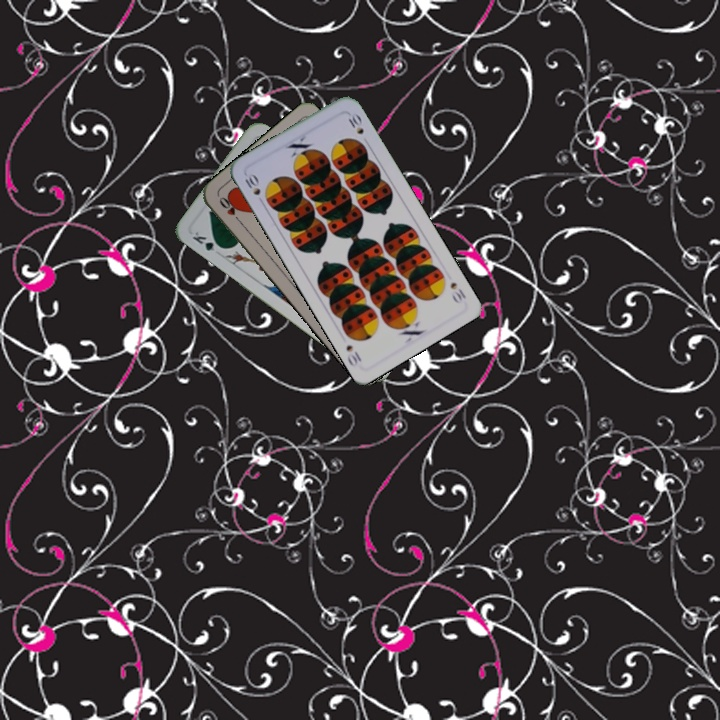GK: (188, 228, 226, 254)
HO: (215, 192, 245, 227)
S10: (241, 169, 267, 207), (446, 278, 469, 306)
